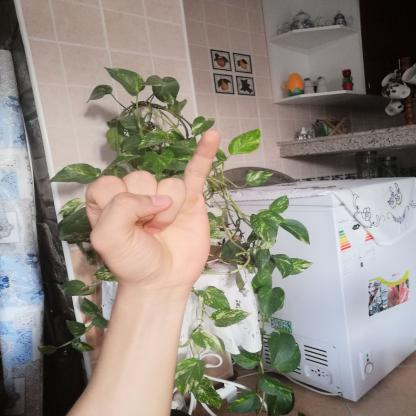MEEM: (64, 120, 236, 300)
